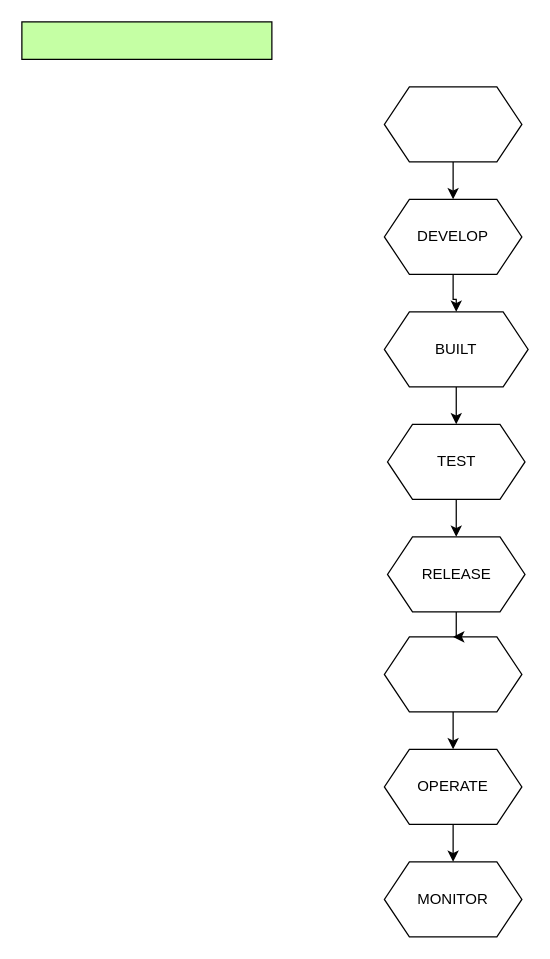
Some shapes in this 550 by 959 pixel diagram are drawn without their labels. The centre of each missing label's shape, as x and y in pixels:
DEPLOY: [452,674]
DEVOPS LIFECYCLE PHASES:: [146,40]
PLAN: [452,124]
